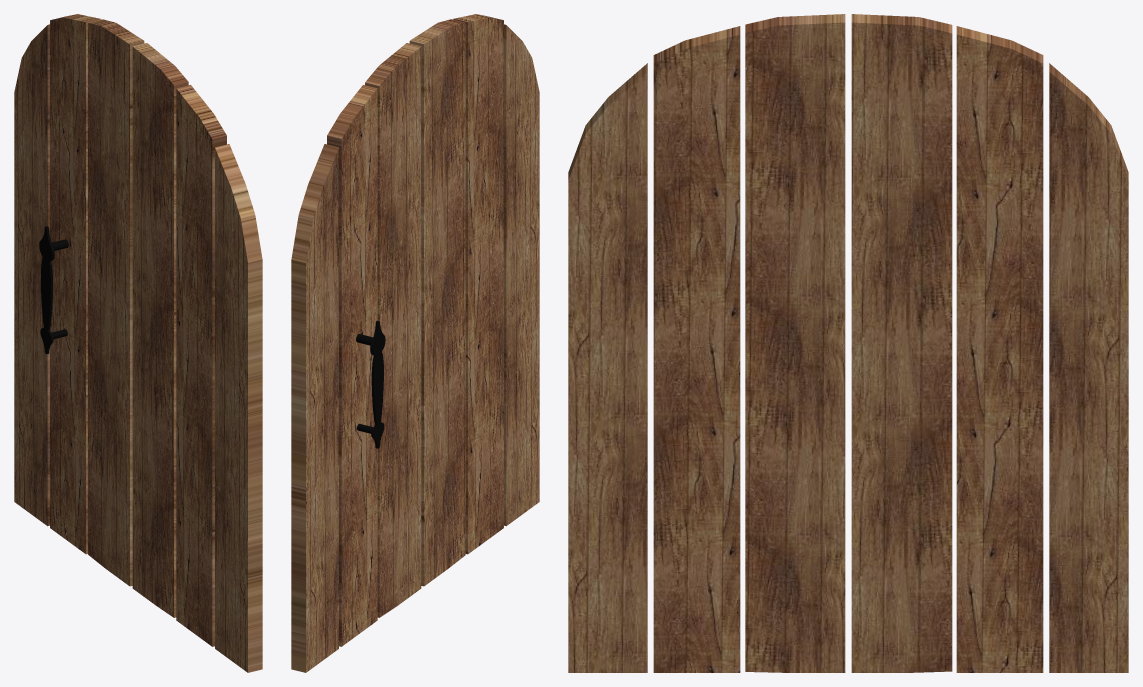
The model's file is maze_door1.glb.
3 renders of one model, left to right at view 1: azimuth 30°, elevation 25°; view 2: azimuth 150°, elevation 25°; view 3: azimuth 270°, elevation 25°, orthographic. The views are drawn at different scales.
Visible parts, largest first — view 1: maze_1_door; view 2: maze_1_door; view 3: maze_1_door.
Boxes of the visible parts, left/top/right/bottom form: maze_1_door: left=14, top=14, right=262, bottom=672; maze_1_door: left=291, top=14, right=539, bottom=672; maze_1_door: left=568, top=14, right=1128, bottom=672.
Size of the model in its own units: 0.2576 by 3.78 by 2.95.
Materials: 2 (1 with a texture image).
